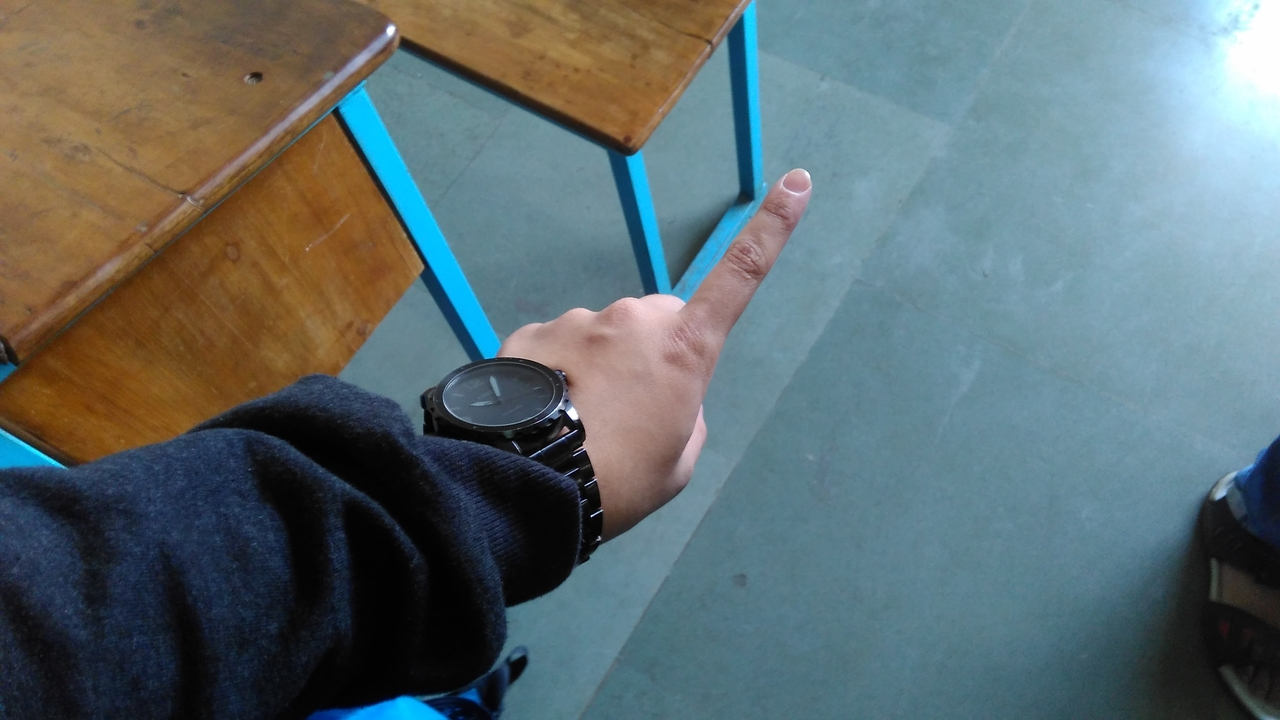fingertip: (766, 154, 826, 204)
